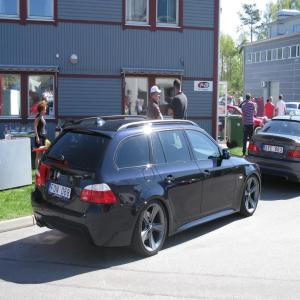Vehicle-registration-plate: (49, 183, 73, 201), (263, 146, 284, 155)
